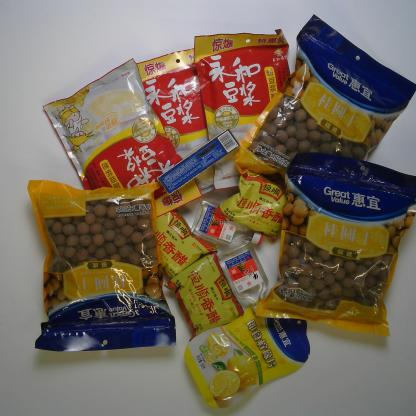Alcohol: (216, 240, 273, 320), (191, 197, 265, 250)
Dried Food: (233, 13, 416, 186), (253, 151, 416, 338), (27, 178, 177, 352)
Dried Fruit: (184, 300, 312, 409)
Instant Drink: (42, 58, 204, 224), (193, 27, 292, 192), (134, 48, 226, 198)
Personal Hygiene: (156, 128, 242, 196)
Seasoner: (162, 250, 245, 342), (211, 167, 291, 245), (154, 206, 219, 280)
